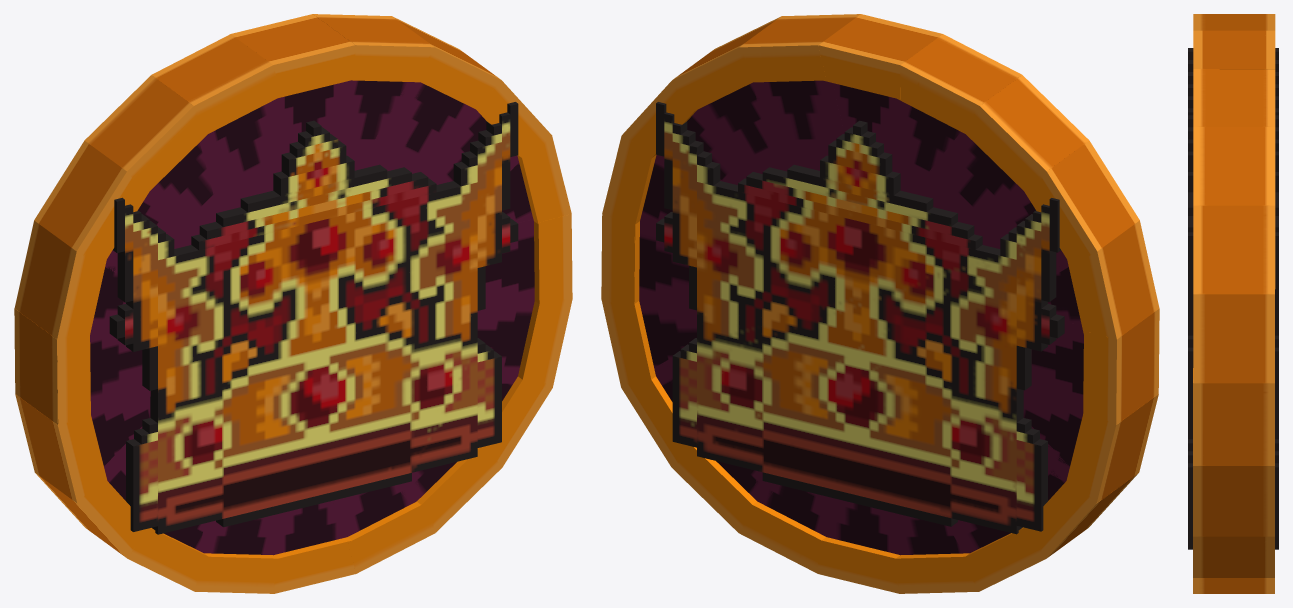
File: crown.fbx
The picture shows the model from 3 angles, left to right: view 1: azimuth 30°, elevation 25°; view 2: azimuth 150°, elevation 25°; view 3: azimuth 270°, elevation 25°; orthographic projection. The views are drawn at different scales.
Visible parts, largest first — view 1: crown; view 2: crown; view 3: crown.
Part boxes in pixels (<box>): crown: <box>14,14,572,593</box>; crown: <box>601,14,1159,593</box>; crown: <box>1188,14,1278,593</box>.
Bounding box in the file's own units: 629 × 617 × 100.
1 material, 1 textured.
